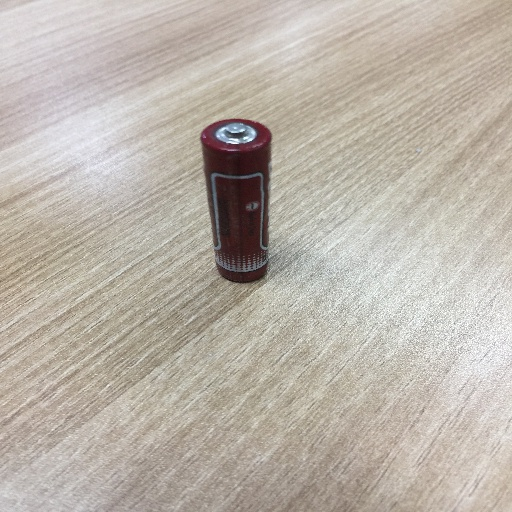Battery_0: (191, 108, 283, 295)
